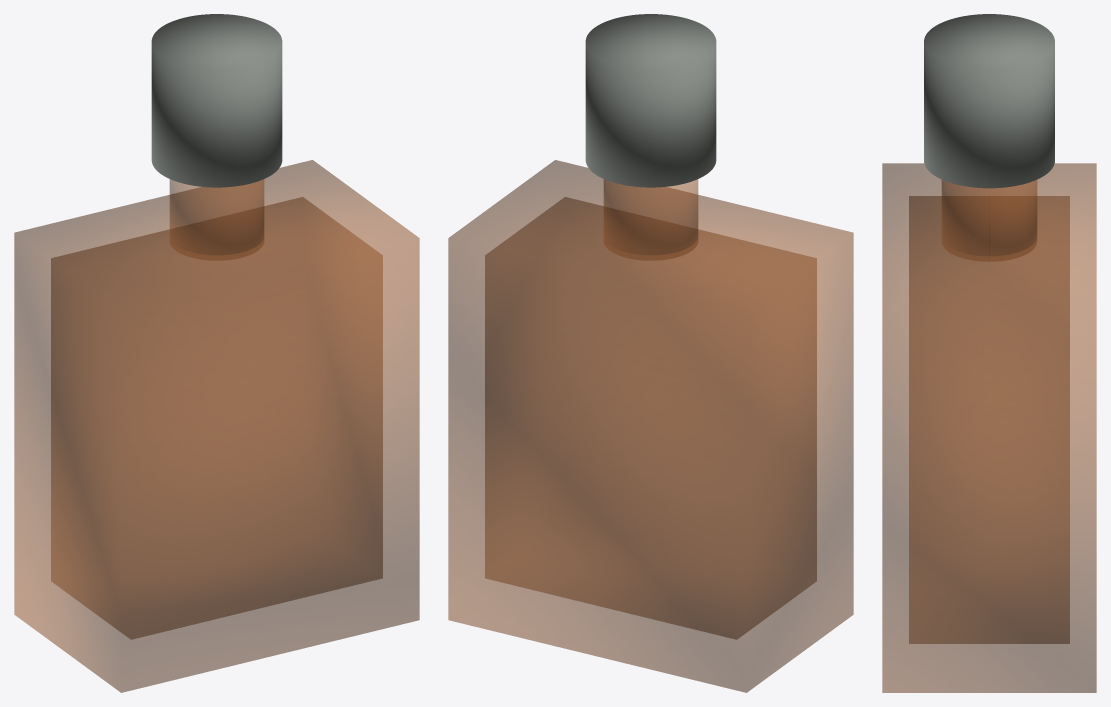
File: intact.glb
3 views of the same model, side by side, from view 1: azimuth 30°, elevation 25°; view 2: azimuth 150°, elevation 25°; view 3: azimuth 270°, elevation 25° (orthographic).
Visible parts, largest first — view 1: perfume-bottle-component-000-amber, perfume-bottle-component-002-metal, perfume-bottle-component-001-amber; view 2: perfume-bottle-component-000-amber, perfume-bottle-component-002-metal, perfume-bottle-component-001-amber; view 3: perfume-bottle-component-000-amber, perfume-bottle-component-002-metal, perfume-bottle-component-001-amber.
Part boxes in pixels (x1,y1,x2,y2): perfume-bottle-component-000-amber: [14, 160, 419, 692]; perfume-bottle-component-002-metal: [151, 14, 282, 187]; perfume-bottle-component-001-amber: [169, 179, 264, 260]; perfume-bottle-component-000-amber: [448, 160, 853, 692]; perfume-bottle-component-002-metal: [585, 14, 716, 187]; perfume-bottle-component-001-amber: [603, 179, 698, 260]; perfume-bottle-component-000-amber: [882, 163, 1096, 692]; perfume-bottle-component-002-metal: [924, 14, 1054, 188]; perfume-bottle-component-001-amber: [941, 180, 1037, 261].
Size of the model in its own units: 0.0542 by 0.1 by 0.0336.
2 materials, 2 textured.
